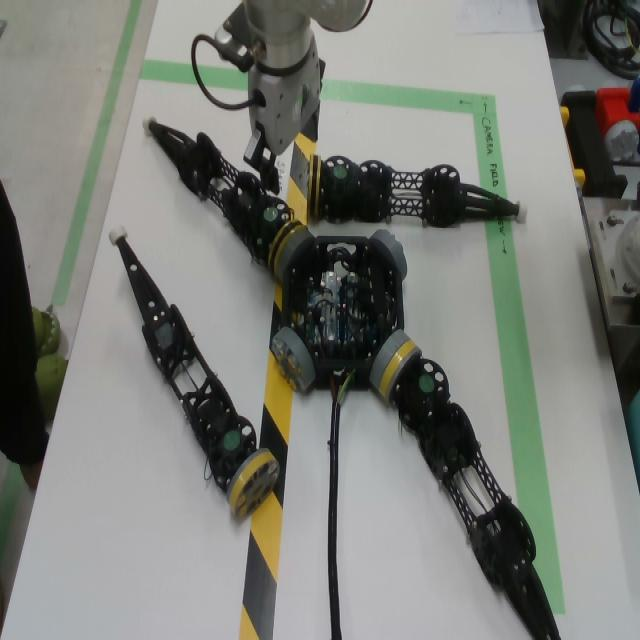body: (281, 237, 404, 388)
body_connector: (270, 327, 316, 393), (369, 329, 410, 389), (276, 229, 315, 281), (368, 229, 407, 281)
gripper: (243, 36, 326, 196)
leg: (379, 340, 562, 640), (108, 223, 280, 520), (142, 112, 306, 272), (308, 152, 528, 228)
leg_connector: (226, 449, 280, 519), (379, 340, 421, 400), (268, 220, 306, 275), (308, 155, 322, 217)
leg_marker: (225, 431, 240, 449), (420, 375, 434, 392), (263, 207, 278, 221), (333, 167, 346, 179)
